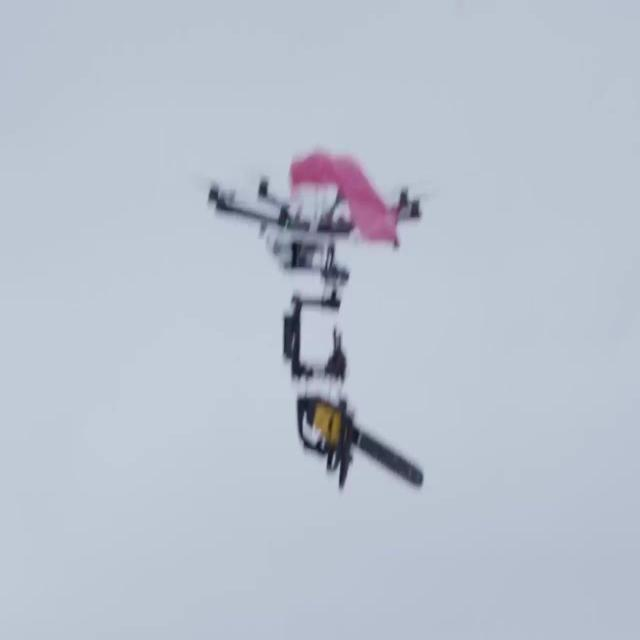drone: (205, 148, 425, 492)
